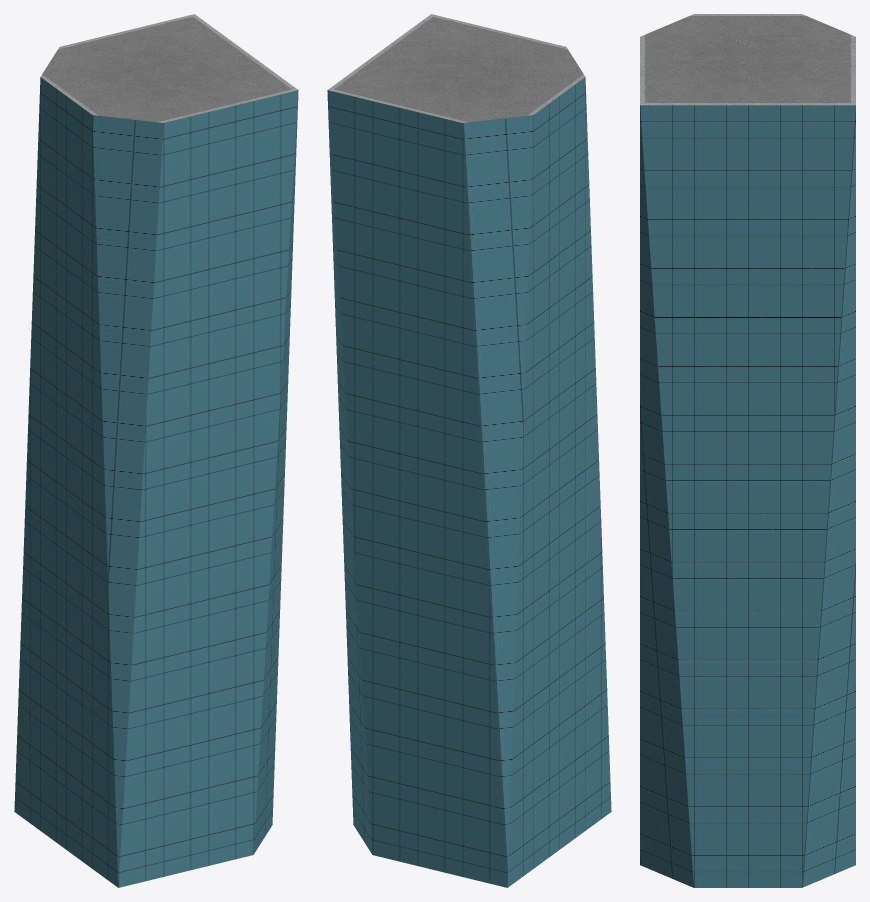
3 views of the same model, side by side, from view 1: azimuth 30°, elevation 25°; view 2: azimuth 150°, elevation 25°; view 3: azimuth 270°, elevation 25° (orthographic). The views are drawn at different scales.
Parts seen in each view (by area): view 1: Building_bevelCorners; view 2: Building_bevelCorners; view 3: Building_bevelCorners.
Boxes of the visible parts, box(x1,y1,x2,y2) form: Building_bevelCorners: box(14, 14, 298, 887); Building_bevelCorners: box(327, 14, 611, 887); Building_bevelCorners: box(640, 14, 855, 887).
Bounding box in the file's own units: 30 × 120 × 30.
Materials: 1 (1 with a texture image).
